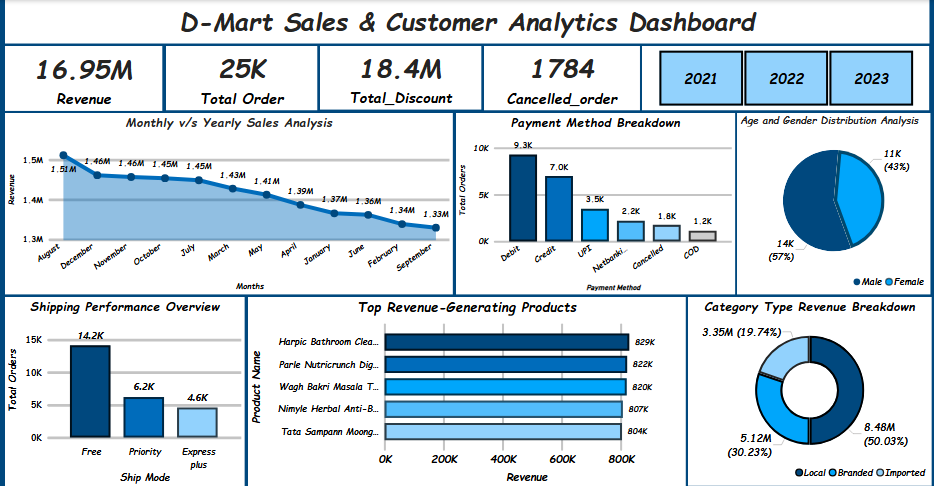

What the dashboard file says about the page in this screenshot:
{"tool":"powerbi","page":{"name":"Dash Board","canvas":[1400,732],"ordinal":0},"visuals":[{"type":"pieChart","title":"Age and Gender Distribution Analysis","fields":{"Category":["Dmart+Dataset_Tableau.Gender"],"Y":["Dmart+Dataset_Tableau.Count_genders"]},"box":[1102.1,168.7,289,271],"z":0},{"type":"textbox","box":[9.1,0,1380.5,64.9],"z":1000},{"type":"card","fields":{"Values":["Dmart+Dataset_Tableau.Cancelled_order"]},"box":[723.8,69.4,233,96],"z":2000},{"type":"card","fields":{"Values":["Dmart+Dataset_Tableau.total_discount"]},"box":[478.9,69.4,241,95],"z":3000},{"type":"card","fields":{"Values":["Dmart+Dataset_Tableau.total_order"]},"box":[249,69.4,226,96],"z":4000},{"type":"card","fields":{"Values":["Dmart+Dataset_Tableau.Revenue"]},"box":[9.5,69.4,235.4,96.6],"z":5000},{"type":"areaChart","title":"Monthly v/s Yearly Sales Analysis","fields":{"Category":["Dmart+Dataset_Tableau.Month"],"Y":["Dmart+Dataset_Tableau.Revenue"]},"box":[9.4,168.6,669,271],"z":6000},{"type":"columnChart","title":"Payment Method Breakdown","fields":{"Category":["Dmart+Dataset_Tableau.Payment Method"],"Y":["Dmart+Dataset_Tableau.total_order"]},"box":[682.1,168.6,417,271],"z":7000},{"type":"columnChart","title":"Shipping Performance Overview","fields":{"Category":["Dmart+Dataset_Tableau.Ship Mode"],"Y":["Dmart+Dataset_Tableau.total_order"]},"box":[9.4,443.3,358,284.1],"z":8000},{"type":"slicer","fields":{"Values":["Dmart+Dataset_Tableau.Year"]},"box":[960.6,69.4,429,96],"z":9000},{"type":"clusteredBarChart","title":"Top Revenue-Generating Products","fields":{"Category":["Dmart+Dataset_Tableau.Product Name"],"Y":["Dmart+Dataset_Tableau.Revenue"]},"box":[371.4,443.6,654,284.4],"z":10000},{"type":"donutChart","title":"Category Type Revenue Breakdown","fields":{"Category":["Dmart+Dataset_Tableau.Category"],"Y":["Dmart+Dataset_Tableau.Revenue"]},"box":[1028.6,444.2,363.6,281.8],"z":11000}]}

Visuals, with their boxes in screenshot pixels (x1, y1, x2, y2), scaled from the page's 1400x732 canvas onto the 934x486 screenshot:
"Age and Gender Distribution Analysis" pieChart: crop(735, 112, 928, 292)
textbox: crop(6, 0, 927, 43)
card - Dmart+Dataset_Tableau.Cancelled_order: crop(483, 46, 638, 110)
card - Dmart+Dataset_Tableau.total_discount: crop(319, 46, 480, 109)
card - Dmart+Dataset_Tableau.total_order: crop(166, 46, 317, 110)
card - Dmart+Dataset_Tableau.Revenue: crop(6, 46, 163, 110)
"Monthly v/s Yearly Sales Analysis" areaChart: crop(6, 112, 453, 292)
"Payment Method Breakdown" columnChart: crop(455, 112, 733, 292)
"Shipping Performance Overview" columnChart: crop(6, 294, 245, 483)
slicer - Dmart+Dataset_Tableau.Year: crop(641, 46, 927, 110)
"Top Revenue-Generating Products" clusteredBarChart: crop(248, 295, 684, 483)
"Category Type Revenue Breakdown" donutChart: crop(686, 295, 929, 482)
